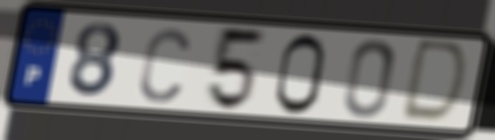0: (272, 31, 329, 117), (341, 37, 399, 121)
5: (205, 24, 267, 114)
8: (67, 21, 124, 100)
C: (136, 24, 193, 105)
D: (396, 37, 472, 128)
